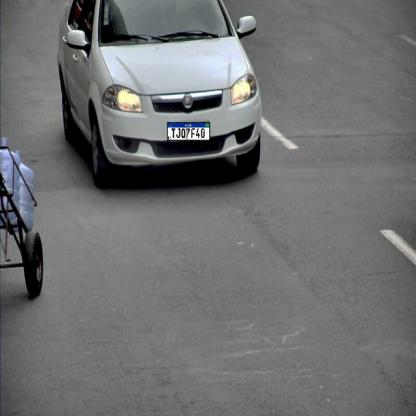PlacaM: (167, 122, 210, 141)
